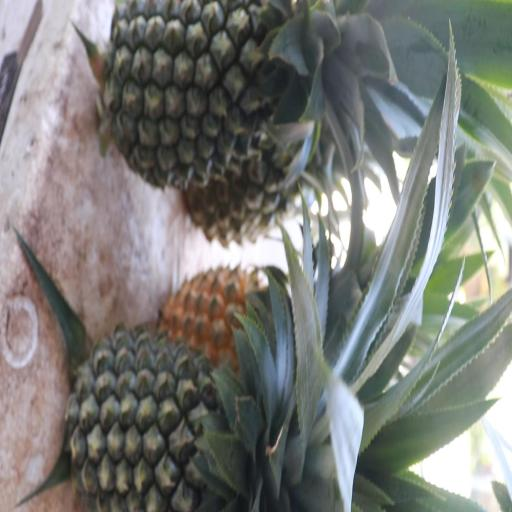Pineapple - v8 v1: (164, 258, 291, 379)
